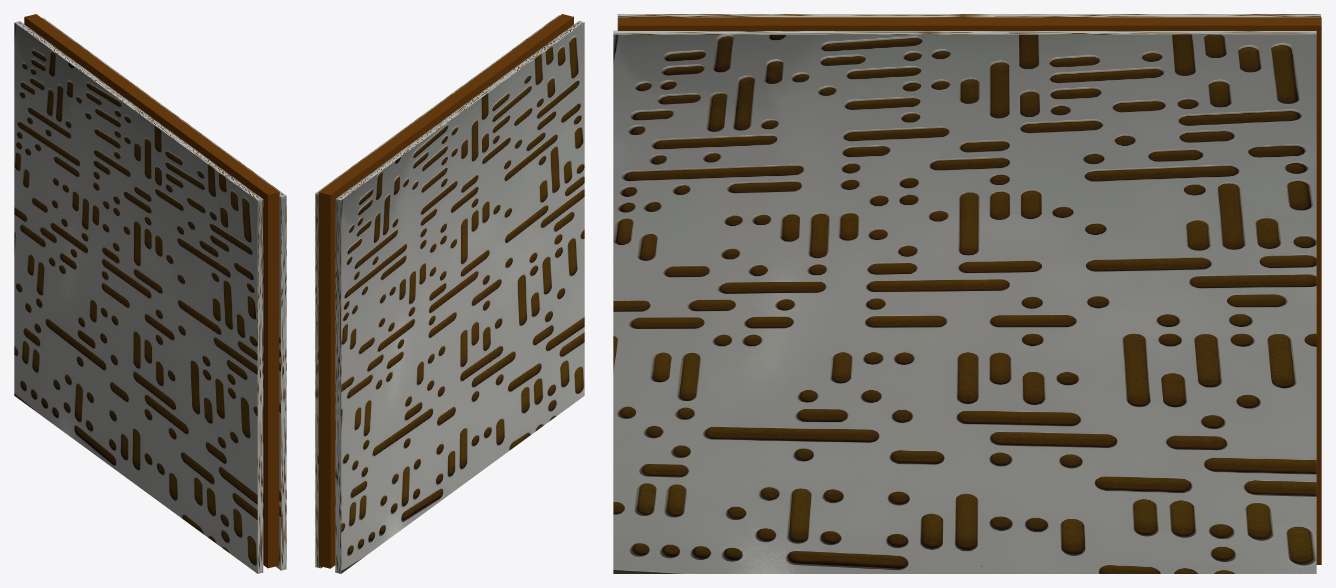
The model's file is divider.obj.
3 renders of one model, left to right at view 1: azimuth 30°, elevation 25°; view 2: azimuth 150°, elevation 25°; view 3: azimuth 270°, elevation 25°, orthographic. The views are drawn at different scales.
Parts seen in each view (by area): view 1: Cube.002_dividerText, Cube.002_NORMAL; view 2: Cube.002_dividerText, Cube.002_NORMAL; view 3: Cube.002_dividerText, Cube.002_NORMAL.
Boxes of the visible parts, bbox=[...] form: Cube.002_dividerText: bbox=[14, 18, 286, 573]; Cube.002_NORMAL: bbox=[24, 14, 279, 568]; Cube.002_dividerText: bbox=[315, 15, 584, 573]; Cube.002_NORMAL: bbox=[318, 14, 573, 568]; Cube.002_dividerText: bbox=[613, 14, 1320, 573]; Cube.002_NORMAL: bbox=[618, 17, 1321, 564].
Bounding box in the file's own units: 0.3932 × 5.16 × 6.08.
